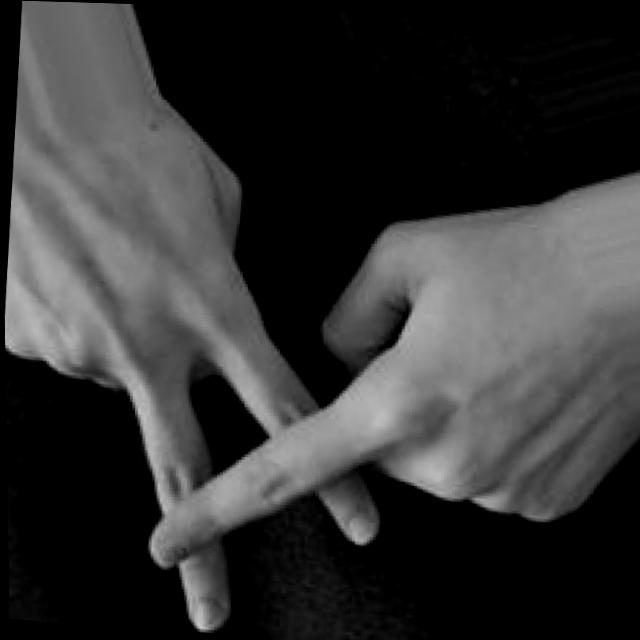A: (2, 145, 554, 640)
